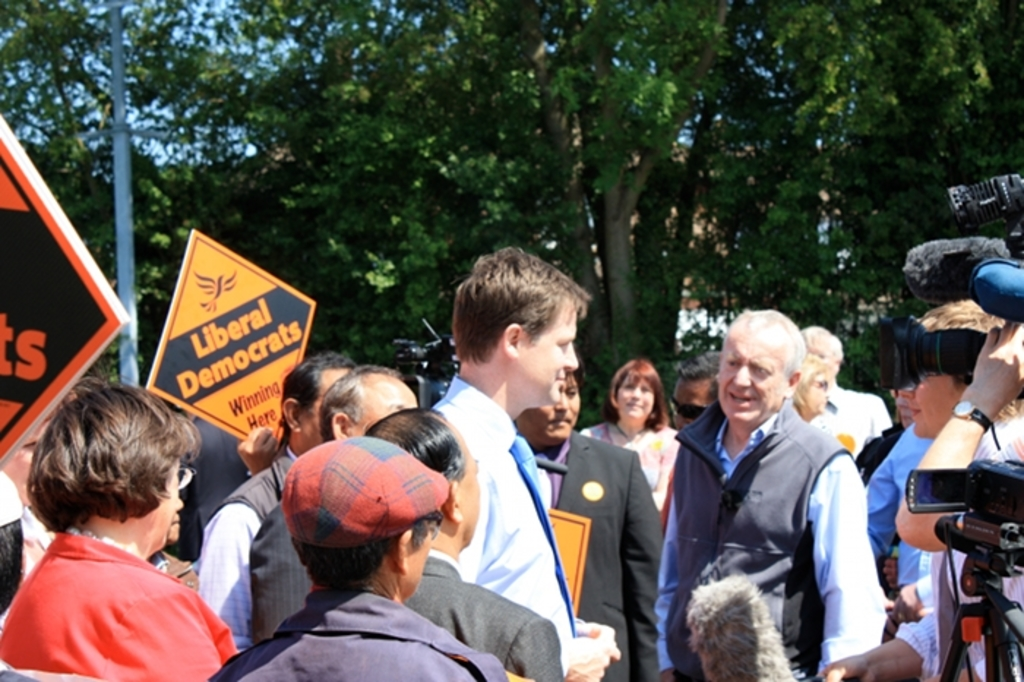Tree: (0, 0, 1022, 414)
